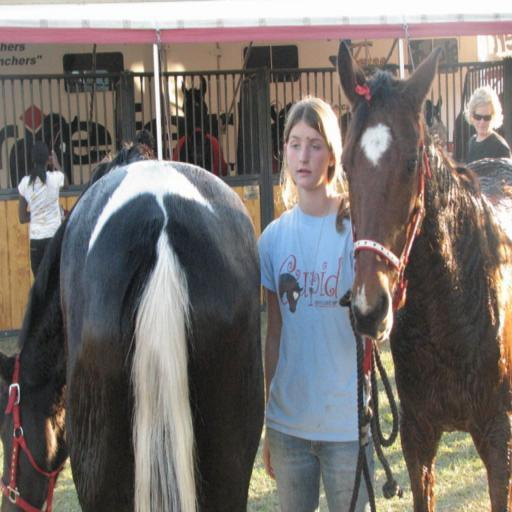horse: (1, 141, 265, 511), (338, 42, 512, 512), (172, 72, 225, 178)
